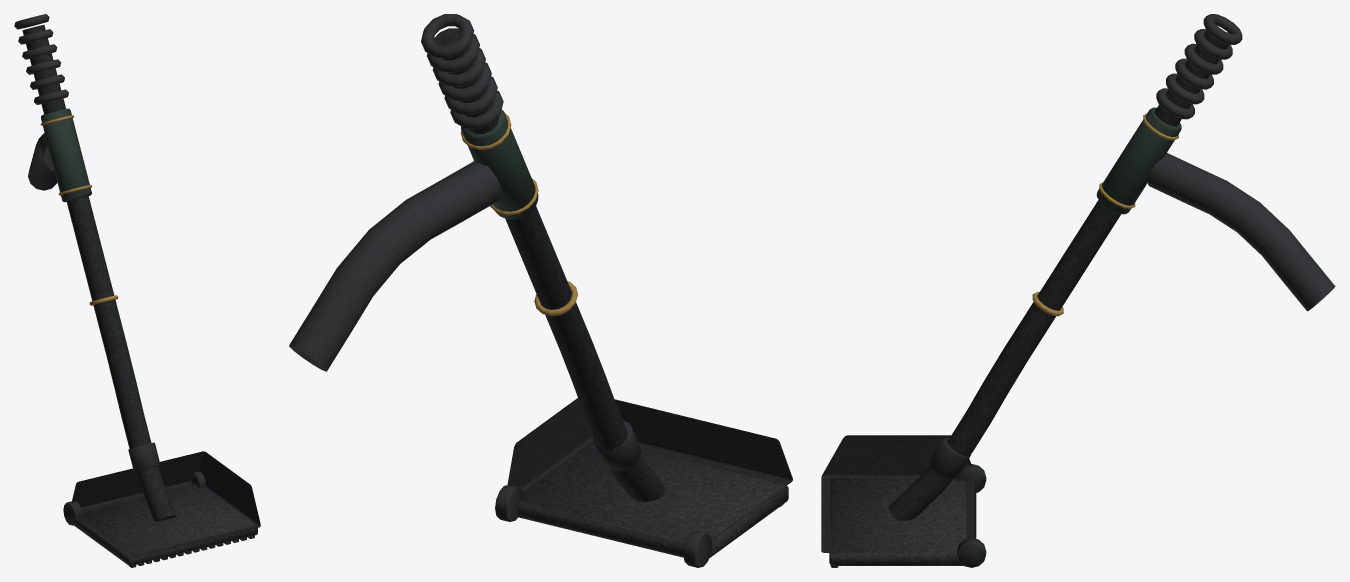
The model's file is asset_071_vacuum_cleaner_fp.glb.
3 views of the same model, side by side, from view 1: azimuth 30°, elevation 25°; view 2: azimuth 150°, elevation 25°; view 3: azimuth 270°, elevation 25° (orthographic). The views are drawn at different scales.
Parts seen in each view (by area): view 1: MESH_VacWandSpine, MESH_VacHeadSole, MESH_VacHeadShell, MESH_VacWandGrip, MESH_VacHoseTail, MESH_VacWandCollar, MESH_VacHeadBrushStrip, MESH_VacHeadWheelL; view 2: MESH_VacHeadSole, MESH_VacHoseTail, MESH_VacHeadShell, MESH_VacWandSpine, MESH_VacWandGrip, MESH_VacHoseRib_5, MESH_VacWandCollar, MESH_VacHeadWheelL, MESH_VacHeadWheelR, MESH_VacHoseRib_4, MESH_VacHoseRib_0, MESH_VacHoseRib_3 (+2 smaller); view 3: MESH_VacWandSpine, MESH_VacHeadSole, MESH_VacHoseTail, MESH_VacHeadShell, MESH_VacWandGrip, MESH_VacWandCollar, MESH_VacHoseRib_5, MESH_VacHeadWheelR.
Part boxes in pixels (x1,y1,x2,y2): MESH_VacWandSpine: (22, 25, 175, 521); MESH_VacHeadSole: (74, 485, 257, 565); MESH_VacHeadShell: (71, 451, 260, 557); MESH_VacWandGrip: (41, 108, 91, 202); MESH_VacHoseTail: (28, 133, 57, 190); MESH_VacWandCollar: (128, 442, 160, 471); MESH_VacHeadBrushStrip: (129, 535, 254, 567); MESH_VacHeadWheelL: (63, 501, 82, 525); MESH_VacHeadSole: (518, 440, 788, 557); MESH_VacHoseTail: (289, 161, 502, 371); MESH_VacHeadShell: (507, 398, 792, 547); MESH_VacWandSpine: (434, 28, 664, 501); MESH_VacWandGrip: (461, 109, 538, 219); MESH_VacHoseRib_5: (421, 14, 474, 58); MESH_VacWandCollar: (593, 419, 641, 471); MESH_VacHeadWheelL: (683, 530, 712, 567); MESH_VacHeadWheelR: (495, 485, 523, 521); MESH_VacHoseRib_4: (427, 28, 479, 72); MESH_VacHoseRib_0: (450, 90, 503, 129); MESH_VacHoseRib_3: (432, 48, 485, 86); MESH_VacWandSpine: (888, 30, 1228, 520); MESH_VacHeadSole: (829, 478, 966, 565); MESH_VacHoseTail: (1147, 153, 1335, 311); MESH_VacHeadShell: (821, 435, 976, 552); MESH_VacWandGrip: (1096, 107, 1181, 214); MESH_VacWandCollar: (928, 437, 970, 479); MESH_VacHoseRib_5: (1203, 14, 1242, 44); MESH_VacHeadWheelR: (957, 537, 986, 567).
Bounding box in the file's own units: 0.256 × 0.7795 × 0.7055.
6 materials, 6 textured.
